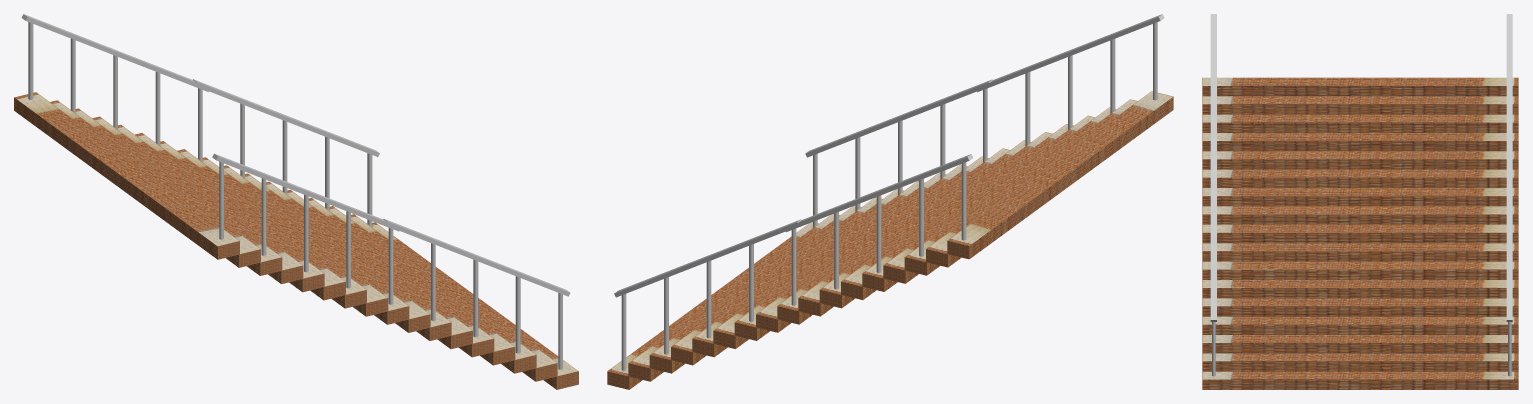
The model's file is Stair.fbx.
3 views of the same model, side by side, from view 1: azimuth 30°, elevation 25°; view 2: azimuth 150°, elevation 25°; view 3: azimuth 270°, elevation 25° (orthographic). The views are drawn at different scales.
Visible parts, largest first — view 1: pCube27, polySurface2, polySurface1, pCube26, pCube24, pCube25, pCube22, pCube23, pCube20, pCube12, pCube18, pCube14 (+7 smaller); view 2: pCube27, polySurface2, polySurface1, pCube26, pCube24, pCube22, pCube25, pCube23, pCube20, pCube14, pCube16, pCube18 (+7 smaller); view 3: pCube19, pCube27, pCube1, pCube12, pCube13, pCube14, pCube15, pCube18, pCube20, pCube23, pCube26, pCube16 (+7 smaller).
Boxes of the visible parts, x1,y1,x2,y2 form: pCube27: (14, 92, 239, 259); polySurface2: (212, 153, 570, 296); polySurface1: (21, 14, 379, 156); pCube26: (50, 100, 260, 267); pCube24: (92, 116, 303, 283); pCube25: (75, 108, 282, 275); pCube22: (135, 133, 345, 300); pCube23: (118, 124, 324, 292); pCube20: (177, 149, 388, 316); pCube12: (351, 214, 557, 381); pCube18: (224, 165, 430, 332); pCube14: (308, 198, 515, 365); pCube27: (947, 91, 1173, 259); polySurface2: (805, 14, 1164, 157); polySurface1: (614, 154, 973, 297); pCube26: (926, 99, 1137, 267); pCube24: (883, 115, 1094, 283); pCube22: (841, 132, 1052, 299); pCube25: (904, 107, 1115, 275); pCube23: (862, 124, 1073, 291); pCube20: (798, 148, 1009, 316); pCube14: (671, 197, 882, 365); pCube16: (713, 181, 924, 348); pCube18: (756, 164, 967, 332); pCube19: (1202, 224, 1518, 243); pCube27: (1202, 77, 1518, 96); pCube1: (1202, 371, 1518, 389); pCube12: (1202, 353, 1518, 371); pCube13: (1202, 335, 1518, 353); pCube14: (1202, 316, 1518, 334); pCube15: (1202, 298, 1518, 316); pCube18: (1202, 243, 1518, 261); pCube20: (1202, 206, 1518, 224); pCube23: (1202, 151, 1518, 169); pCube26: (1202, 96, 1518, 114); pCube16: (1202, 280, 1518, 298).
Bounding box in the file's own units: 34.08 × 28.05 × 33.32.
